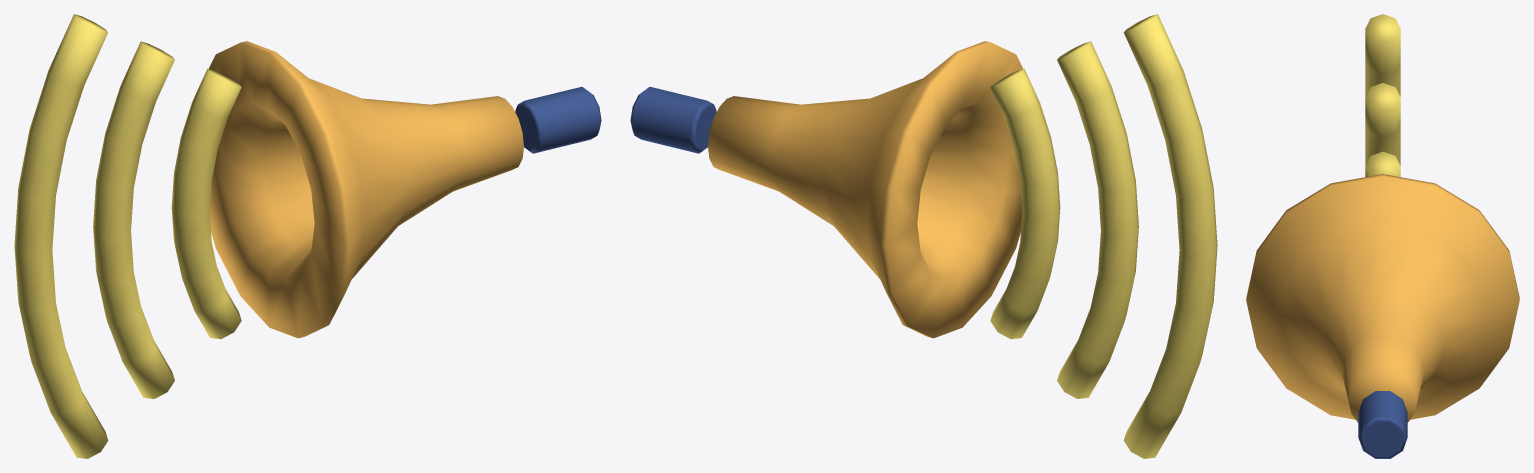
Rendered from Horn_Icon.fbx.
3 views of the same model, side by side, from view 1: azimuth 30°, elevation 25°; view 2: azimuth 150°, elevation 25°; view 3: azimuth 270°, elevation 25° (orthographic). The views are drawn at different scales.
Parts seen in each view (by area): view 1: Horn_Icon; view 2: Horn_Icon; view 3: Horn_Icon.
Part boxes in pixels (x1,y1,x2,y2): Horn_Icon: (14, 14, 601, 458); Horn_Icon: (630, 14, 1217, 458); Horn_Icon: (1246, 14, 1519, 458).
Size of the model in its own units: 0.438 by 0.3211 by 0.2.
Materials: 1 (1 with a texture image).
